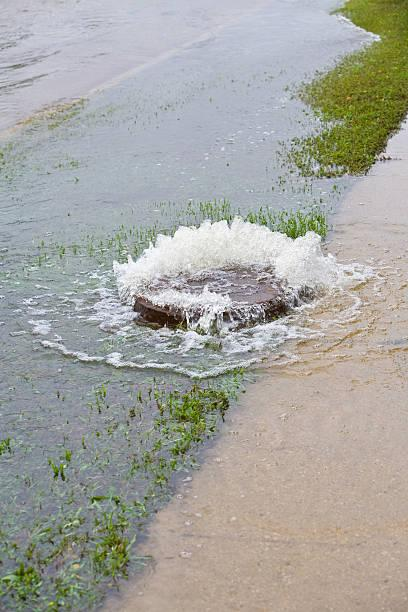drainage overflow-repair-: (0, 203, 364, 362)
